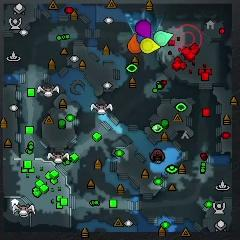p1: (136, 33, 146, 43)
p2: (153, 30, 174, 47)
p3: (135, 20, 151, 38)
p4: (140, 39, 161, 54)
p5: (127, 34, 142, 54)
